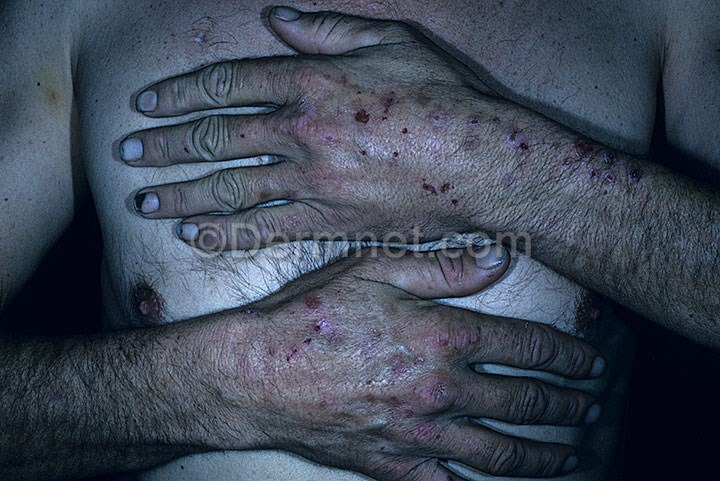Melasma: (272, 56, 685, 224), (253, 275, 490, 475)
